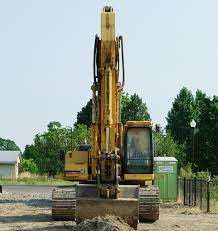excavator: (55, 7, 160, 229)
